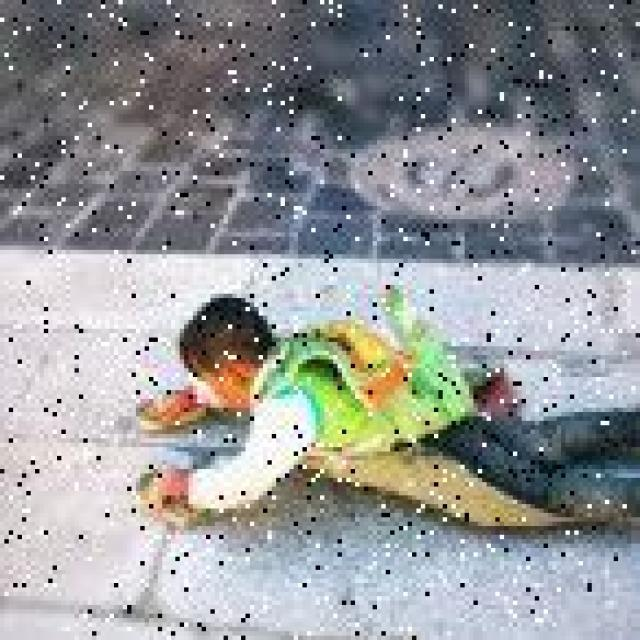fall: (136, 285, 636, 526)
